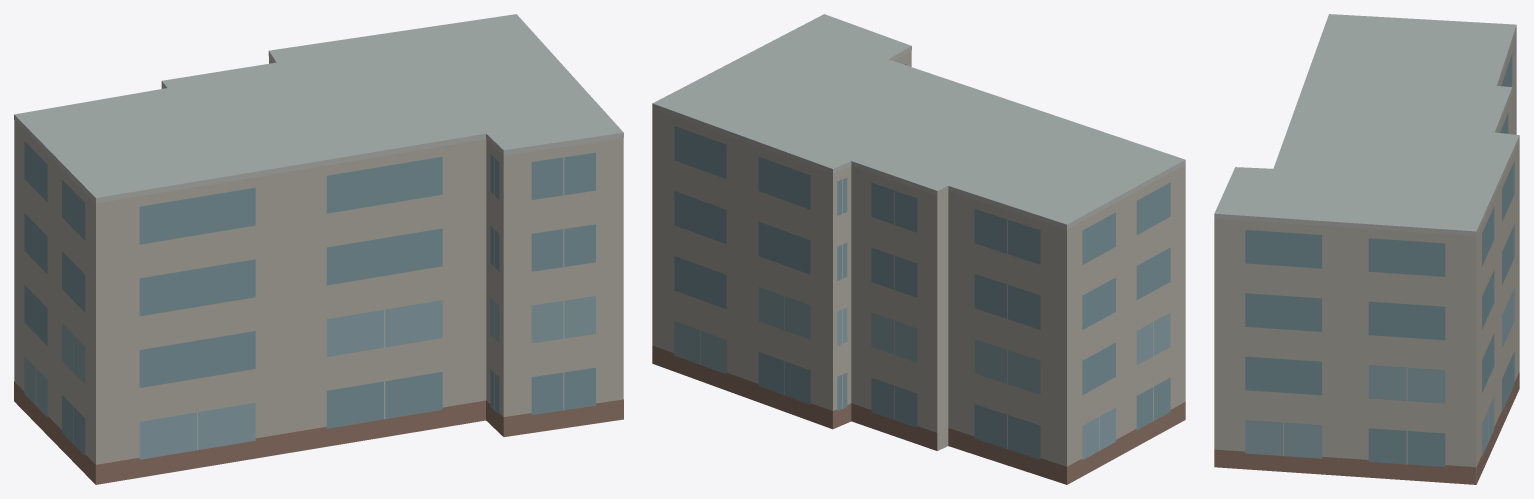
The model's file is survey-upis-32690124.glb.
3 views of the same model, side by side, from view 1: azimuth 30°, elevation 25°; view 2: azimuth 150°, elevation 25°; view 3: azimuth 270°, elevation 25° (orthographic). The views are drawn at different scales.
Visible parts, largest first — view 1: survey-upis-32690124.tmp; view 2: survey-upis-32690124.tmp; view 3: survey-upis-32690124.tmp.
Part boxes in pixels (left/top/right/bottom): survey-upis-32690124.tmp: left=14, top=14, right=623, bottom=484; survey-upis-32690124.tmp: left=652, top=14, right=1185, bottom=484; survey-upis-32690124.tmp: left=1214, top=14, right=1519, bottom=484.
Size of the model in its own units: 23.56 by 12.8 by 13.99.
